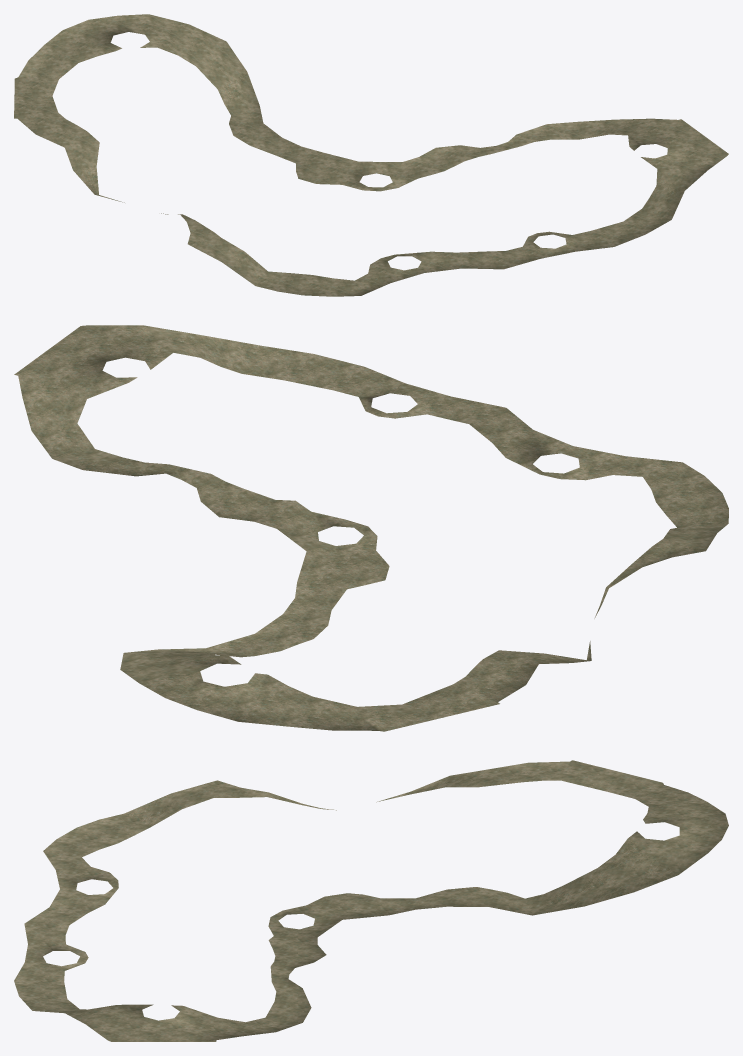
The model's file is EKH_JAIL_PS_JA_SECOND_FLOOR_393837.fbx.
3 views of the same model, one above another, from view 1: azimuth 30°, elevation 25°; view 2: azimuth 150°, elevation 25°; view 3: azimuth 270°, elevation 25° (orthographic). The views are drawn at different scales.
Visible parts, largest first — view 1: EKH_JAIL_PS_JA_SECOND_FLOOR_393837; view 2: EKH_JAIL_PS_JA_SECOND_FLOOR_393837; view 3: EKH_JAIL_PS_JA_SECOND_FLOOR_393837.
Part boxes in pixels (<box>): EKH_JAIL_PS_JA_SECOND_FLOOR_393837: <box>14,14,728,296</box>; EKH_JAIL_PS_JA_SECOND_FLOOR_393837: <box>14,325,728,731</box>; EKH_JAIL_PS_JA_SECOND_FLOOR_393837: <box>14,760,728,1041</box>.
Bounding box in the file's own units: 308032 × 25164 × 339257.
Materials: 1 (1 with a texture image).
